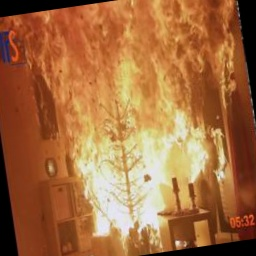fire: (0, 0, 256, 252)
